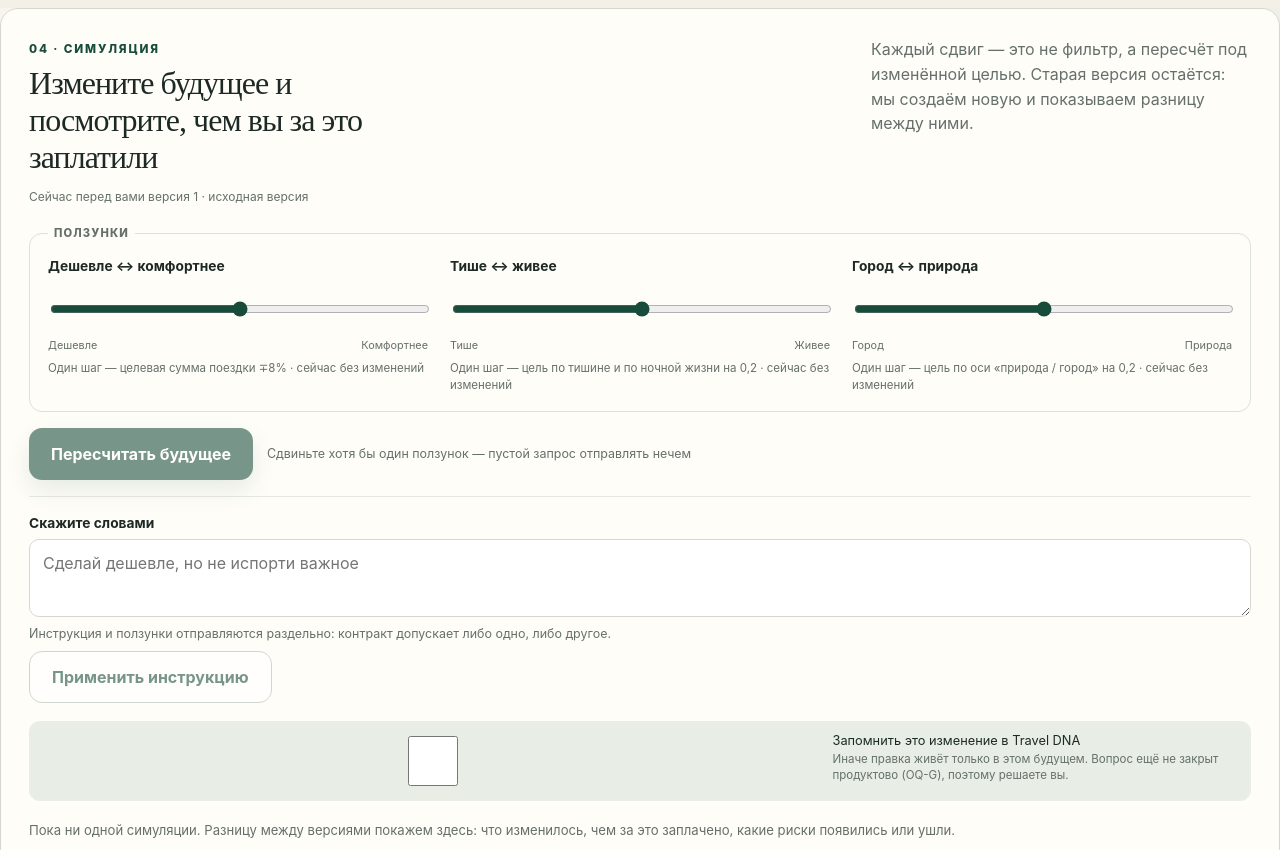
Test: SimulatorPanel › shows the match move, which dimensions changed, and the risks that appeared or resolved
Set the slider labelled "Дешевле ↔ комфортнее" to "-1" at (179, 309), box [50,284,430,334]
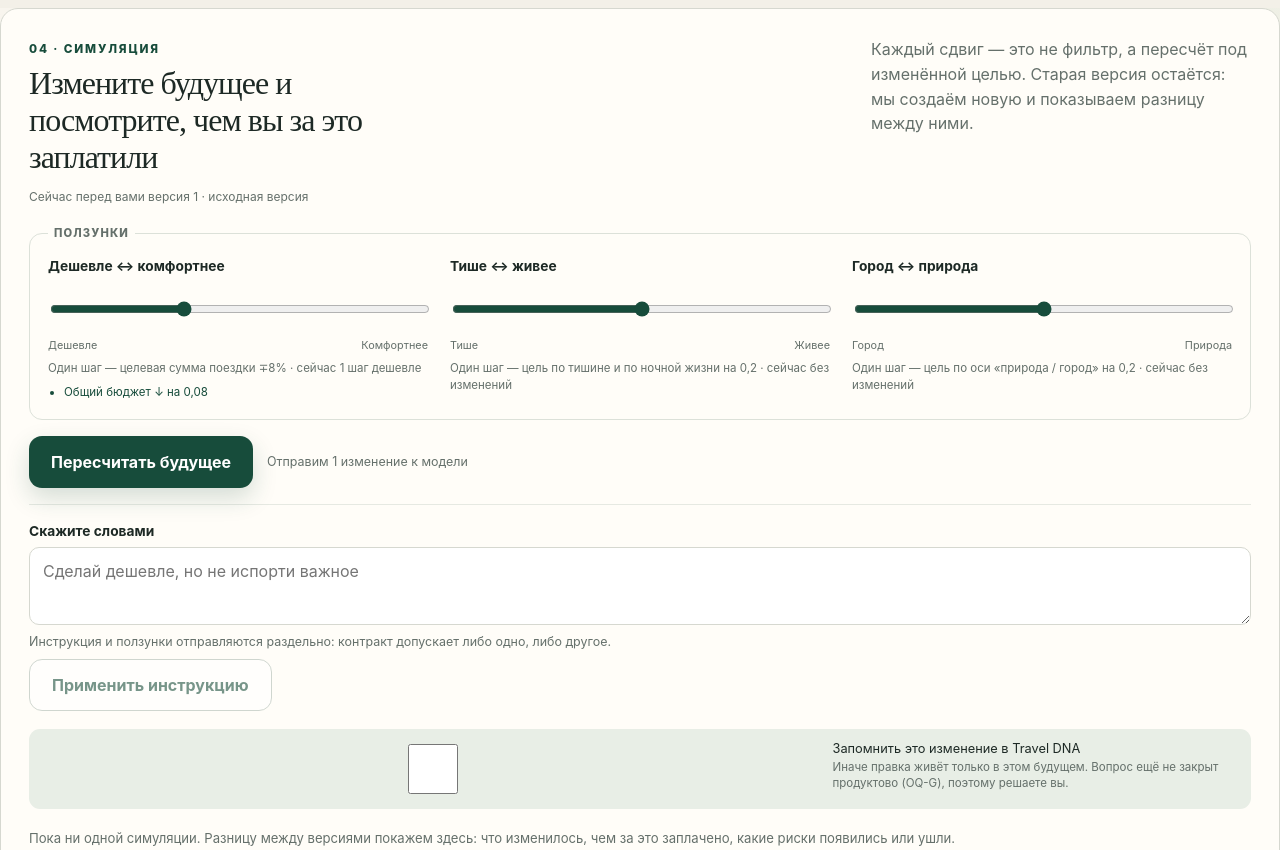
Click the button "Пересчитать будущее" at (141, 462), box [29,436,253,488]
(page scrolled)
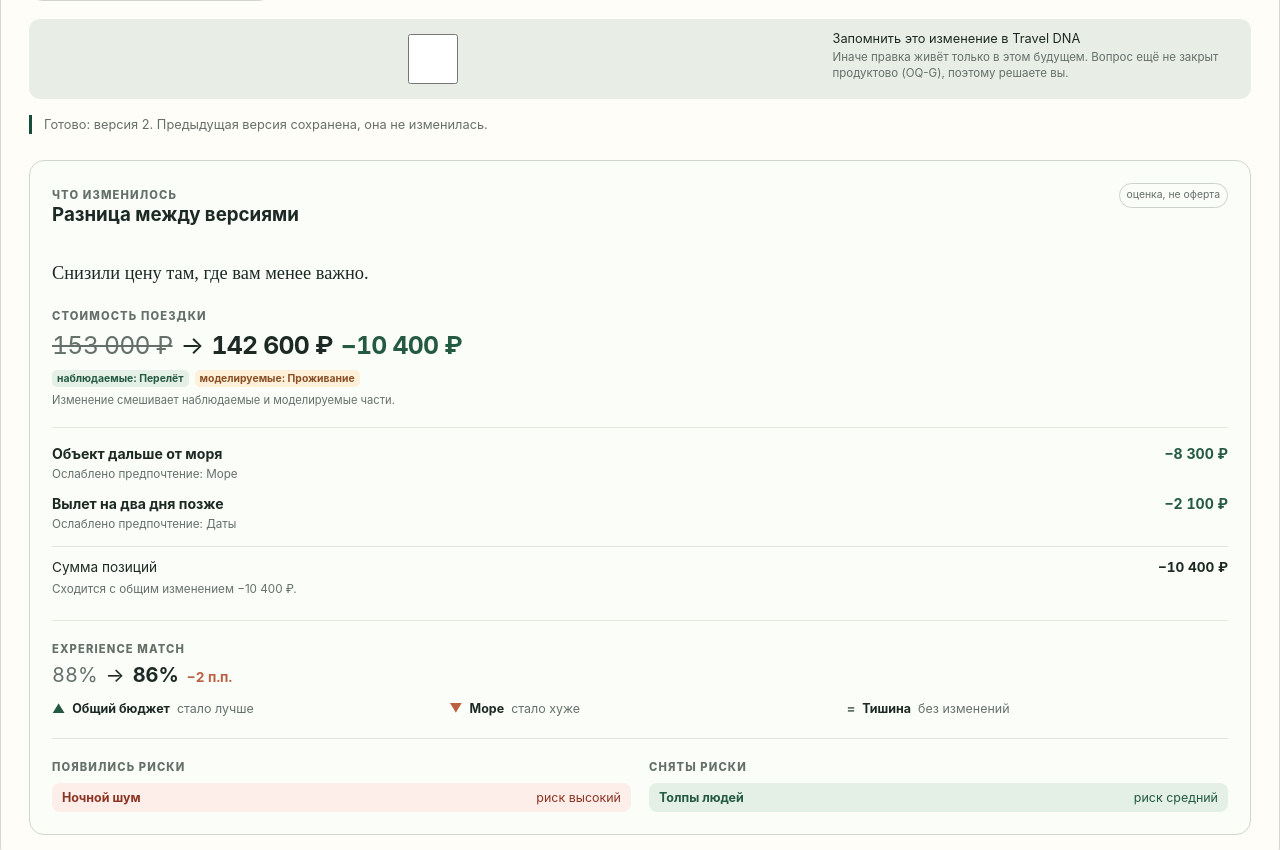
Expected: the heading "Разница между версиями" is shown, [52,203,299,226]
Expected: the text "88%" is shown, [52,663,98,687]
Expected: the text "86%" is shown, [133,663,179,687]
